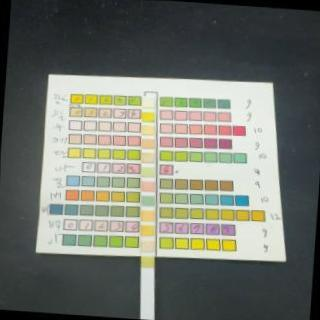mark: (141, 240, 155, 252), (141, 210, 155, 222), (141, 256, 154, 268), (141, 224, 154, 236), (142, 166, 154, 178), (142, 181, 155, 192), (141, 138, 154, 149), (142, 195, 154, 206), (141, 124, 153, 135), (142, 96, 154, 107), (141, 152, 154, 162), (142, 112, 154, 122)
